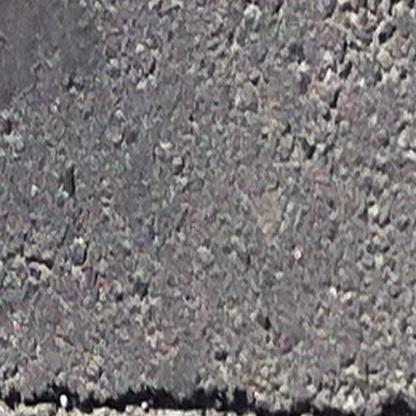Cracks: (0, 379, 416, 416)
